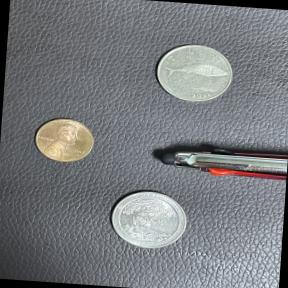coin: (147, 36, 242, 112), (101, 182, 194, 255), (26, 112, 103, 172)
